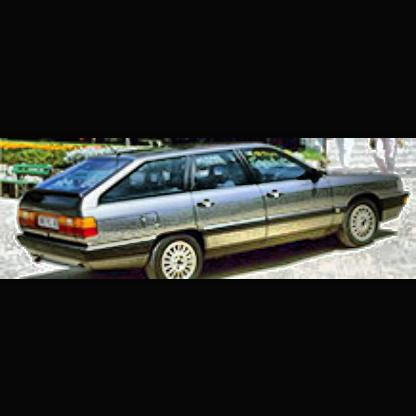Audi 100 Wagon 1994: (12, 140, 412, 279)
